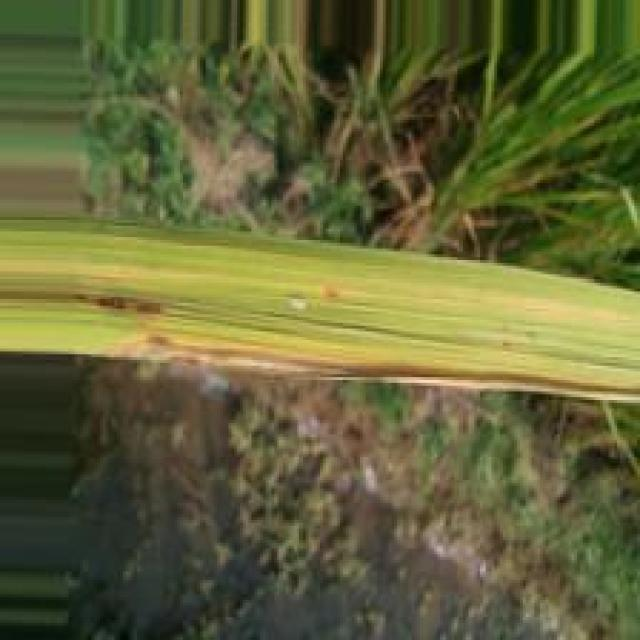Rice Tungro: (100, 330, 386, 382), (386, 365, 638, 400), (70, 293, 168, 320)
